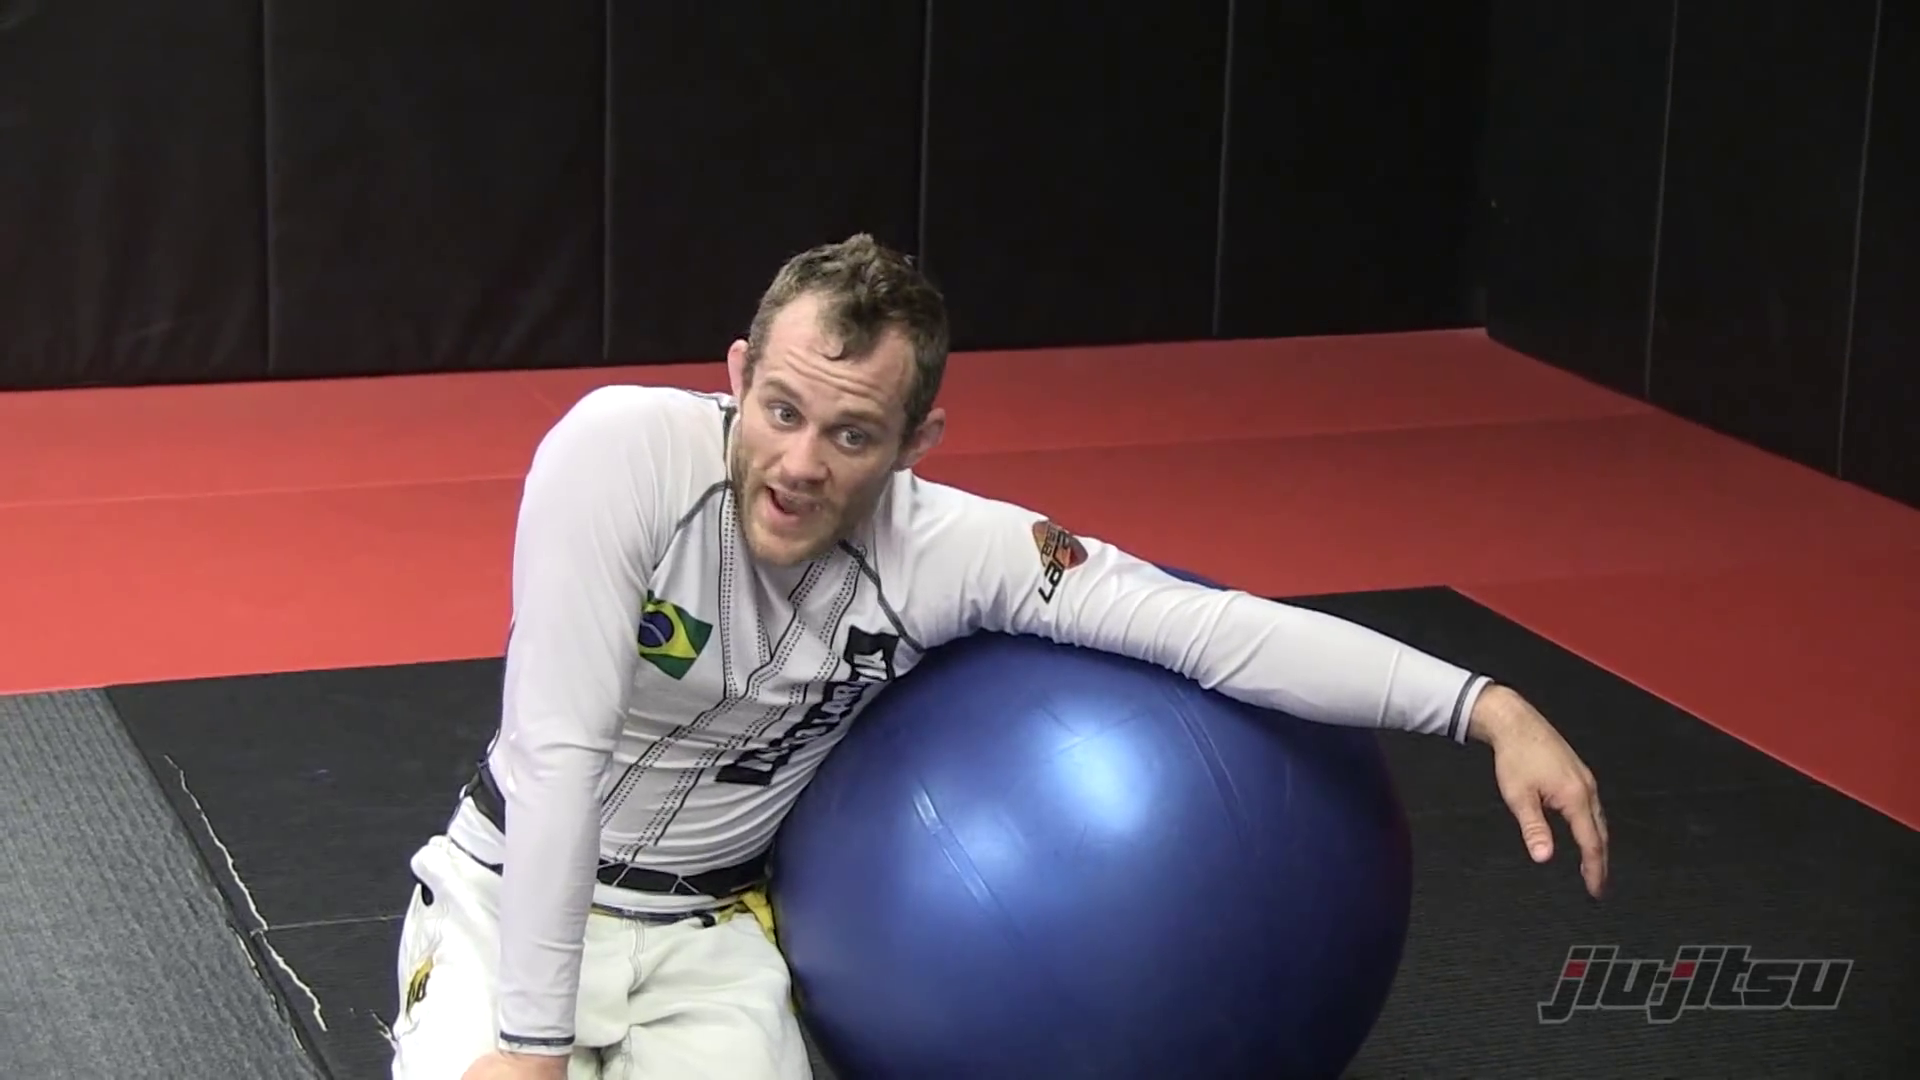yogaball: (752, 630, 1424, 1080)
